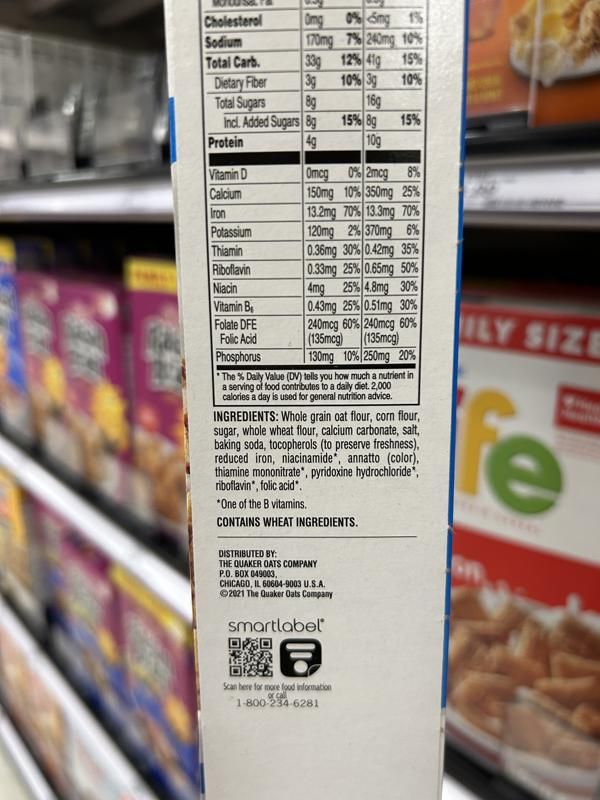ingredients: (210, 408, 421, 493)
